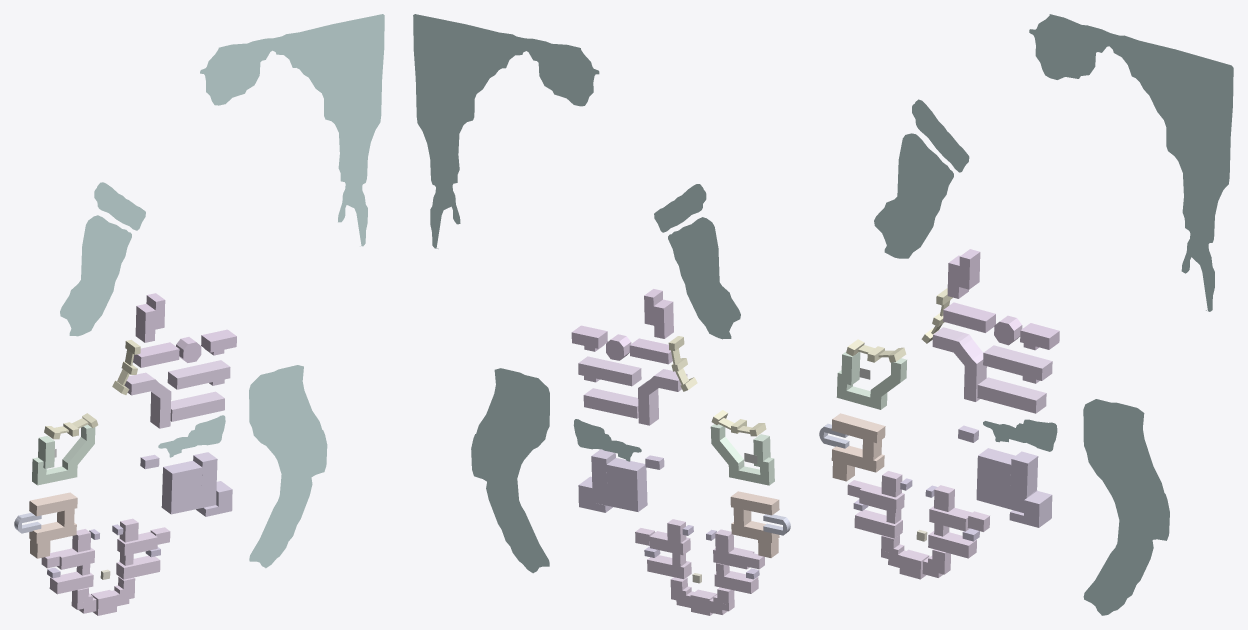
3 views of the same model, side by side, from view 1: azimuth 30°, elevation 25°; view 2: azimuth 150°, elevation 25°; view 3: azimuth 330°, elevation 25° (orthographic). The views are drawn at different scales.
Parts seen in each view (by area): view 1: Shape_IndexedFaceSet.007, Shape_IndexedFaceSet, Shape_IndexedFaceSet.010, Shape_IndexedFaceSet.005, Shape_IndexedFaceSet.006, Shape_IndexedFaceSet.003, Shape_IndexedFaceSet.011, Shape_IndexedFaceSet.012; view 2: Shape_IndexedFaceSet.007, Shape_IndexedFaceSet, Shape_IndexedFaceSet.010, Shape_IndexedFaceSet.005, Shape_IndexedFaceSet.006, Shape_IndexedFaceSet.003, Shape_IndexedFaceSet.011, Shape_IndexedFaceSet.012; view 3: Shape_IndexedFaceSet.007, Shape_IndexedFaceSet, Shape_IndexedFaceSet.010, Shape_IndexedFaceSet.005, Shape_IndexedFaceSet.006, Shape_IndexedFaceSet.003, Shape_IndexedFaceSet.011, Shape_IndexedFaceSet.012.
Boxes of the visible parts, bbox=[...] form: Shape_IndexedFaceSet.007: bbox=[60, 14, 384, 568]; Shape_IndexedFaceSet: bbox=[41, 518, 170, 615]; Shape_IndexedFaceSet.010: bbox=[124, 360, 230, 428]; Shape_IndexedFaceSet.005: bbox=[140, 452, 232, 516]; Shape_IndexedFaceSet.006: bbox=[133, 293, 236, 367]; Shape_IndexedFaceSet.003: bbox=[29, 492, 77, 558]; Shape_IndexedFaceSet.011: bbox=[32, 424, 95, 485]; Shape_IndexedFaceSet.012: bbox=[44, 339, 140, 439]; Shape_IndexedFaceSet.007: bbox=[413, 14, 740, 573]; Shape_IndexedFaceSet: bbox=[635, 519, 783, 615]; Shape_IndexedFaceSet.010: bbox=[578, 356, 687, 425]; Shape_IndexedFaceSet.005: bbox=[578, 449, 664, 512]; Shape_IndexedFaceSet.006: bbox=[571, 289, 673, 364]; Shape_IndexedFaceSet.003: bbox=[730, 491, 779, 557]; Shape_IndexedFaceSet.011: bbox=[710, 424, 774, 485]; Shape_IndexedFaceSet.012: bbox=[668, 336, 766, 436]; Shape_IndexedFaceSet.007: bbox=[874, 14, 1233, 615]; Shape_IndexedFaceSet: bbox=[847, 471, 989, 579]; Shape_IndexedFaceSet.010: bbox=[932, 327, 1052, 413]; Shape_IndexedFaceSet.005: bbox=[958, 425, 1052, 527]; Shape_IndexedFaceSet.006: bbox=[943, 249, 1059, 350]; Shape_IndexedFaceSet.003: bbox=[831, 413, 885, 481]; Shape_IndexedFaceSet.011: bbox=[836, 352, 906, 409]; Shape_IndexedFaceSet.012: bbox=[846, 288, 952, 362].
Size of the model in its own units: 459 by 631 by 25.05.
